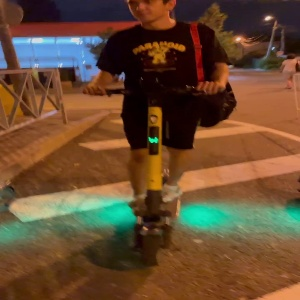human on a scooter: (81, 1, 239, 269)
